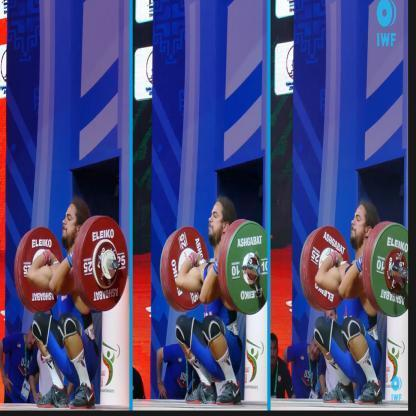barbell: (297, 222, 410, 317), (16, 217, 130, 310), (160, 220, 266, 314)
